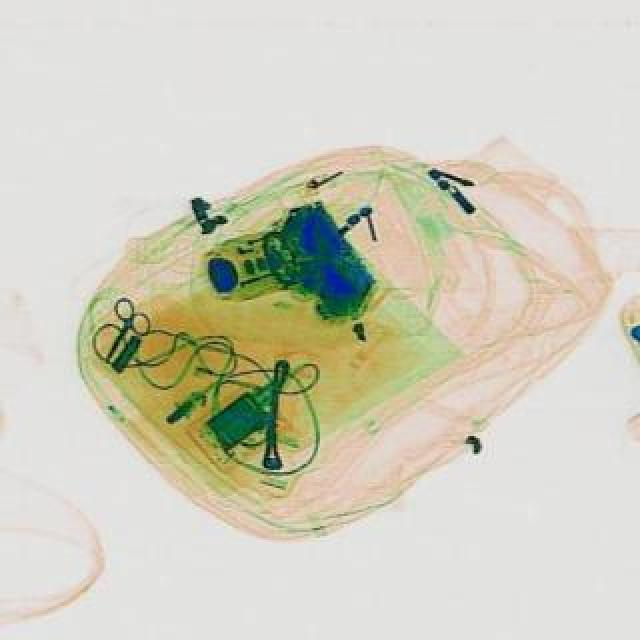pliers: (90, 294, 162, 370)
